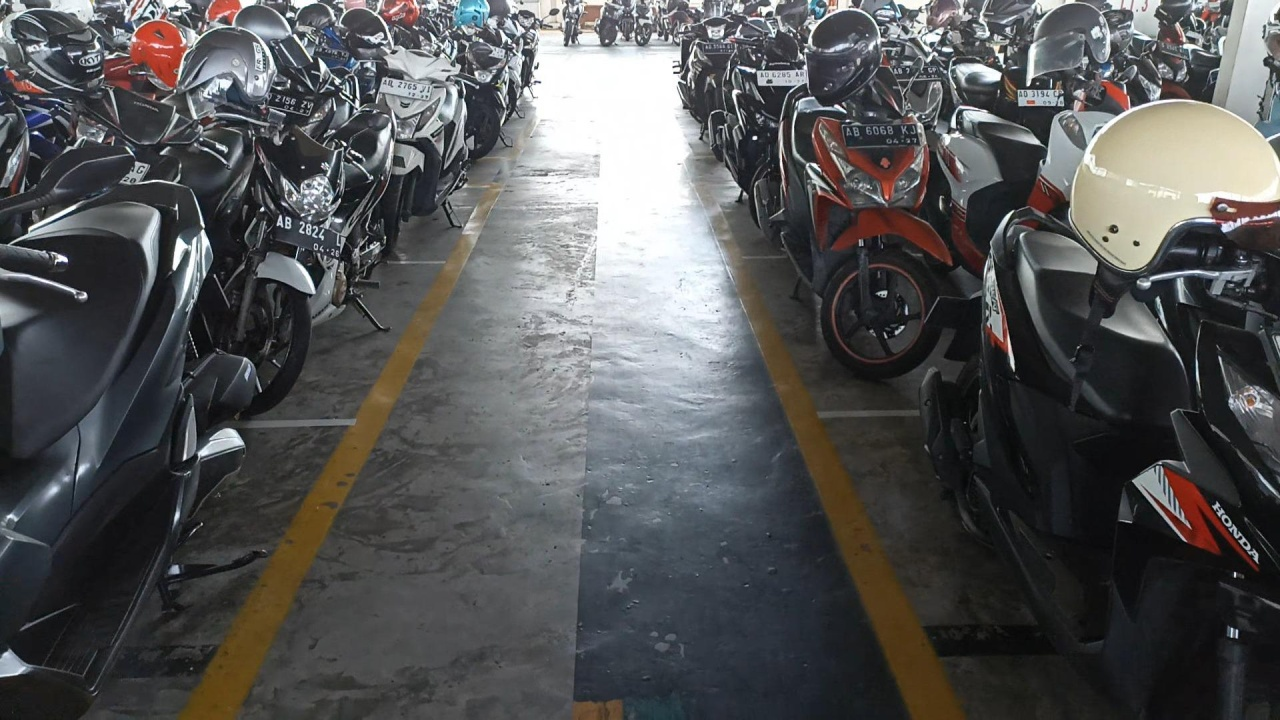plate: (275, 212, 342, 261), (842, 123, 921, 148), (379, 77, 433, 101), (757, 70, 807, 86), (1017, 90, 1065, 106)
